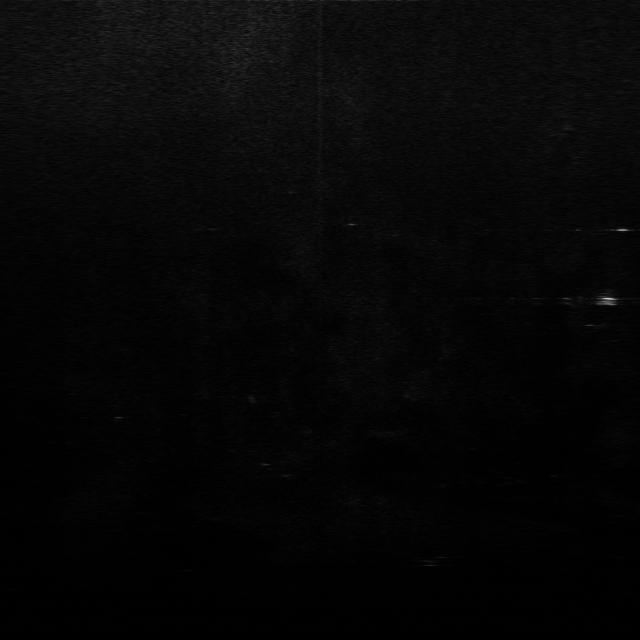rov: (596, 290, 620, 310)
